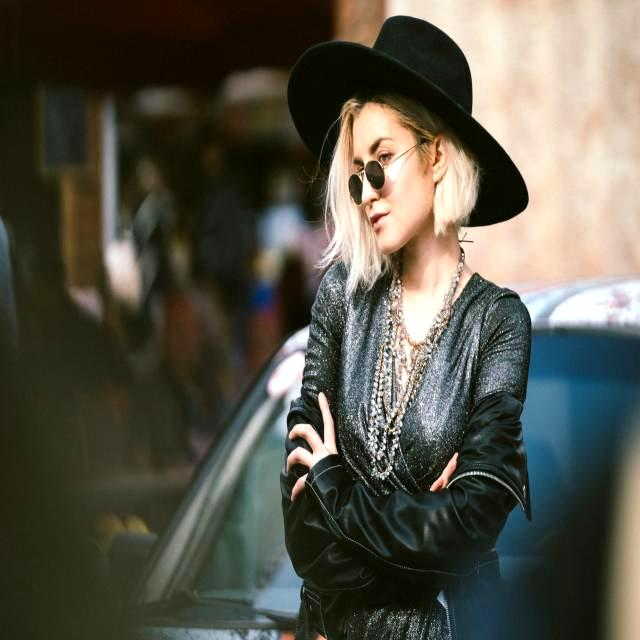no_hard_hat: (287, 16, 528, 227)
person: (281, 17, 531, 640)
